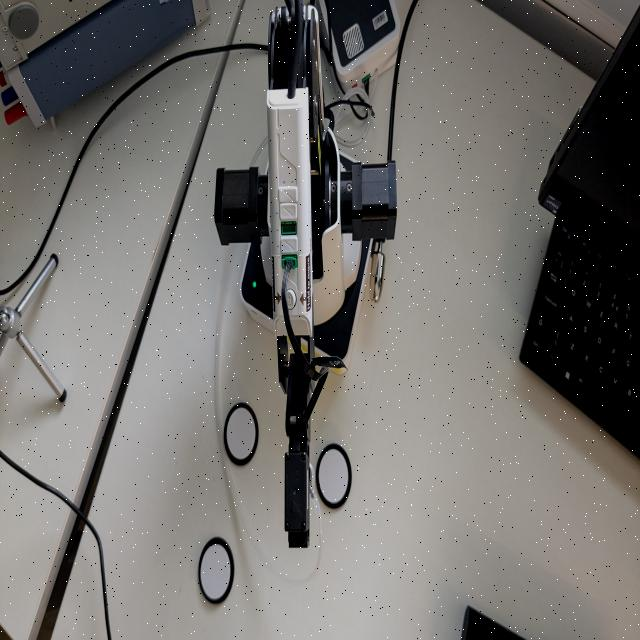Robot-end-effector-HF8z: (280, 446, 318, 552)
